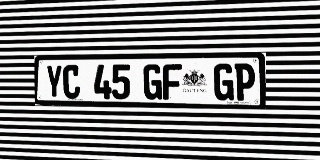4: (94, 65, 112, 99)
5: (112, 64, 130, 99)
C: (63, 65, 80, 99)
F: (163, 64, 182, 100)
G: (214, 63, 234, 101), (143, 64, 162, 100)
P: (234, 63, 255, 101)
Y: (46, 65, 63, 99)
